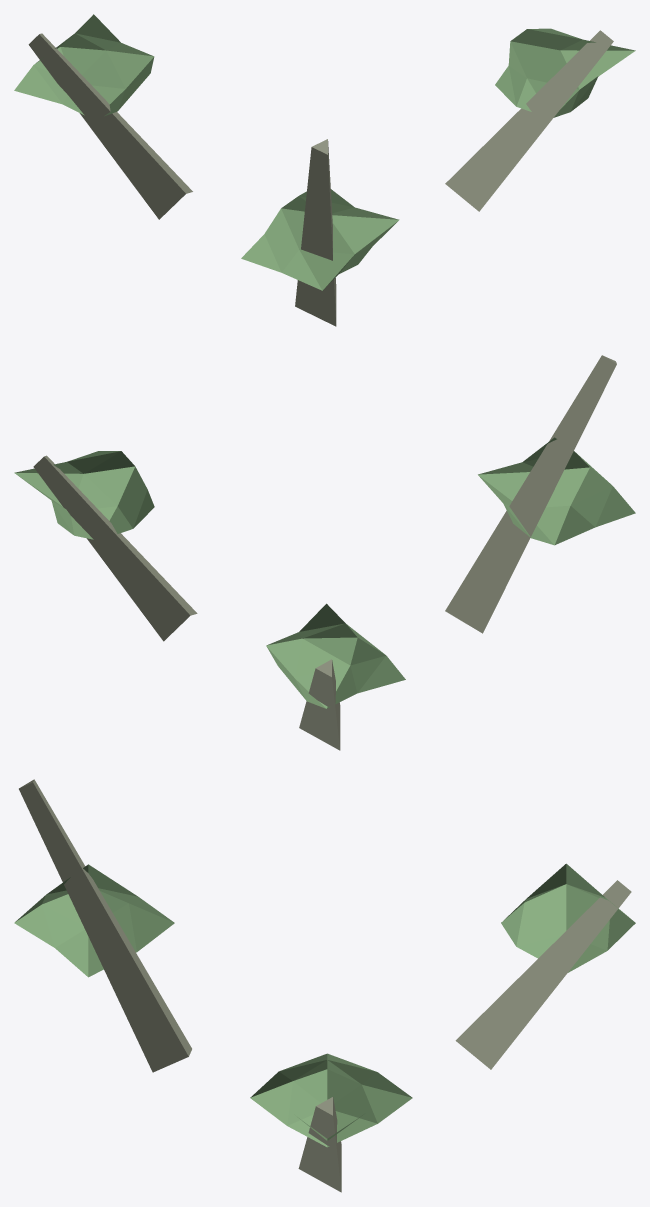
File: bramble_v00.glb
3 renders of one model, top to bottom at view 1: azimuth 30°, elevation 25°; view 2: azimuth 150°, elevation 25°; view 3: azimuth 270°, elevation 25°, orthographic. The views are drawn at different scales.
Visible parts, largest first — view 1: lod0; view 2: lod0; view 3: lod0.
Part boxes in pixels (bbox=[...]): lod0: bbox=[14, 14, 635, 326]; lod0: bbox=[14, 355, 635, 750]; lod0: bbox=[14, 779, 635, 1192].
Size of what is drawn, in the model's own units: 0.5345 by 0.2511 by 0.541.
